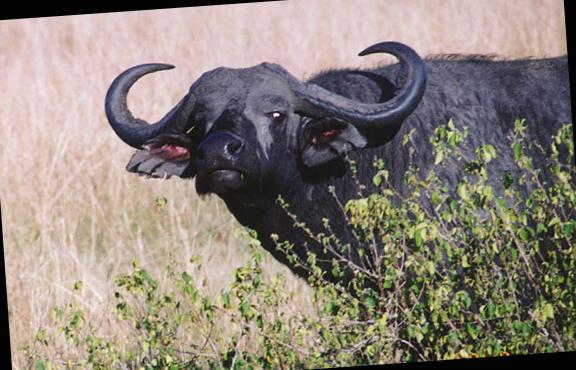Buffalo: (153, 12, 488, 342)
